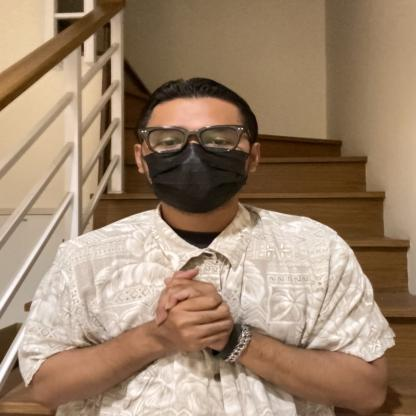Grieve: (88, 256, 320, 379)
